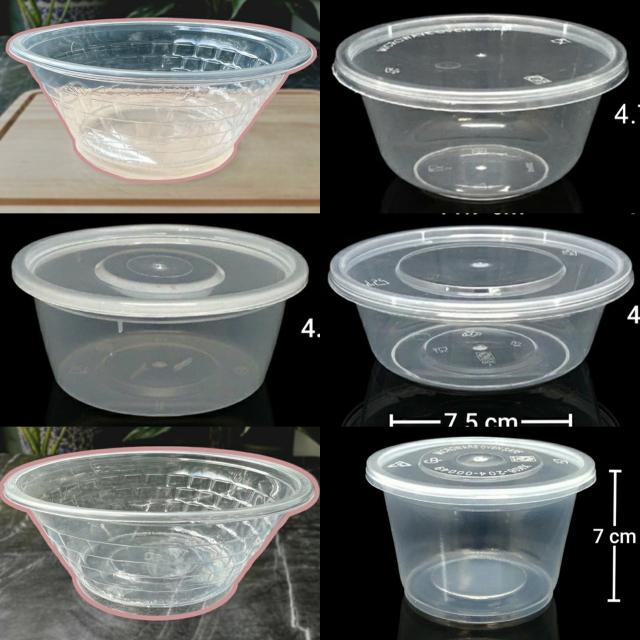Single-Use-Plastic: (13, 225, 308, 415), (333, 15, 628, 201), (1, 448, 319, 618), (329, 226, 633, 391), (8, 19, 315, 179), (365, 436, 595, 624)
